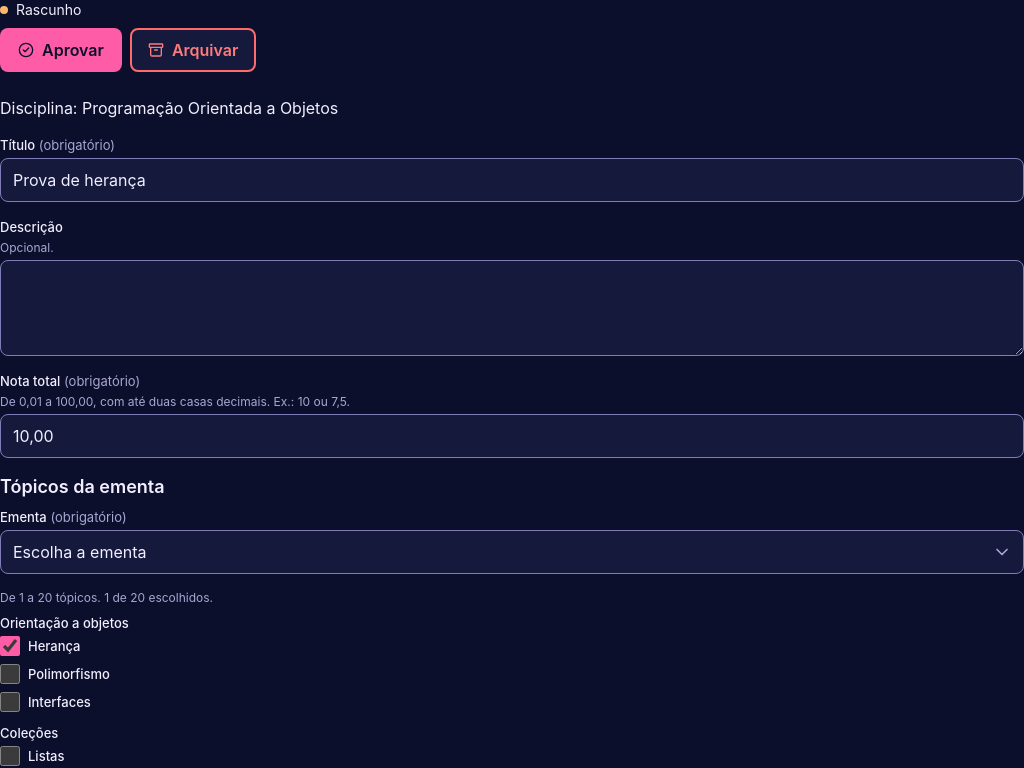
018/US1 ExamDetail — aprovar, arquivar e editar uma prova › 018/US1-2 "Aprovar" lista as questões que bloqueiam, cada uma com um link, e não aprova
Expected: the text "Rascunho" is shown, [0,0,81,20]
Click the button "Aprovar".
click(61, 50)  # box [0,28,122,72]
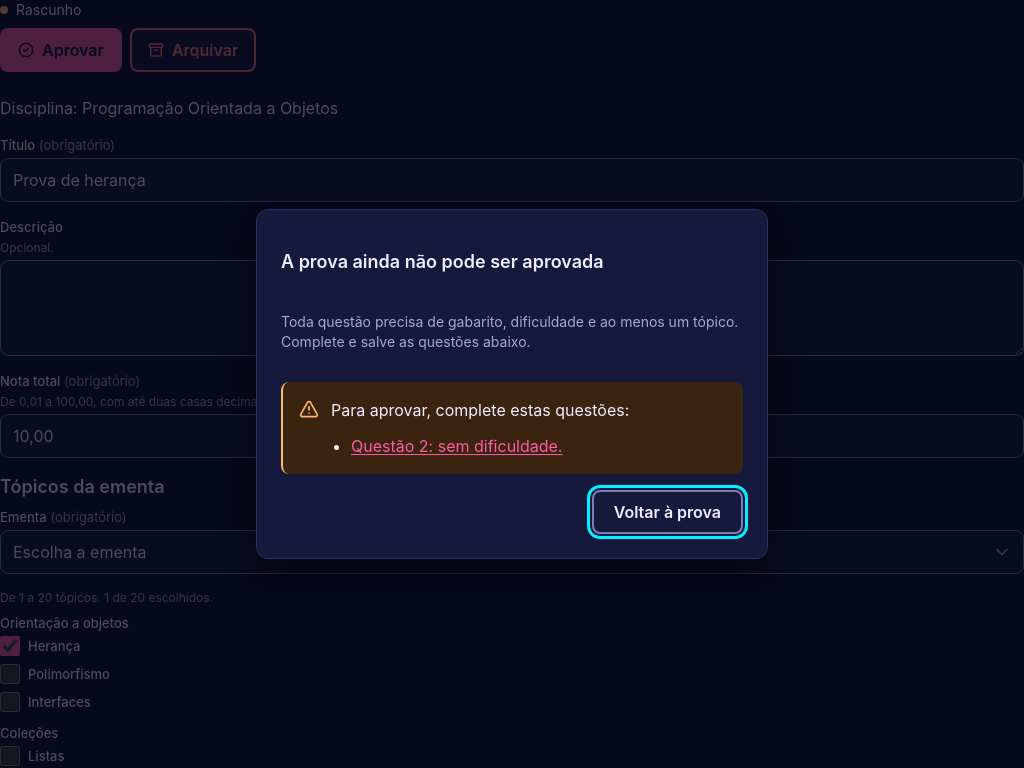
Expected: the heading "A prova ainda não pode ser aprovada" is shown, [281,249,604,275]
